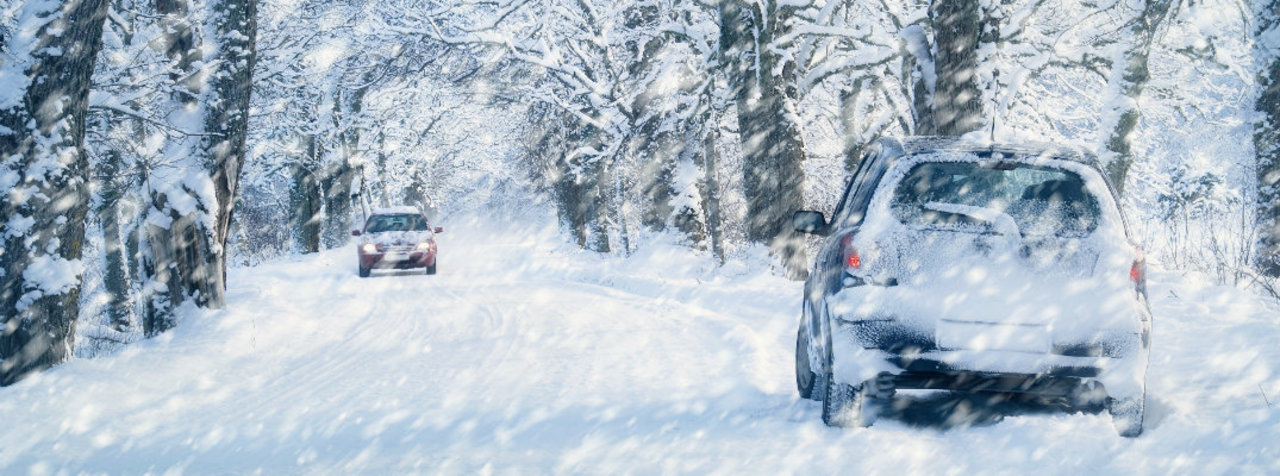car: (790, 135, 1150, 433), (353, 209, 439, 275)
